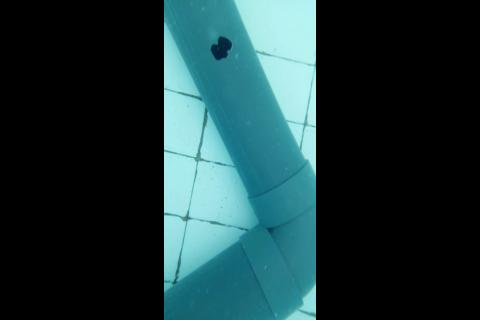kebocoran: (209, 36, 233, 61)
